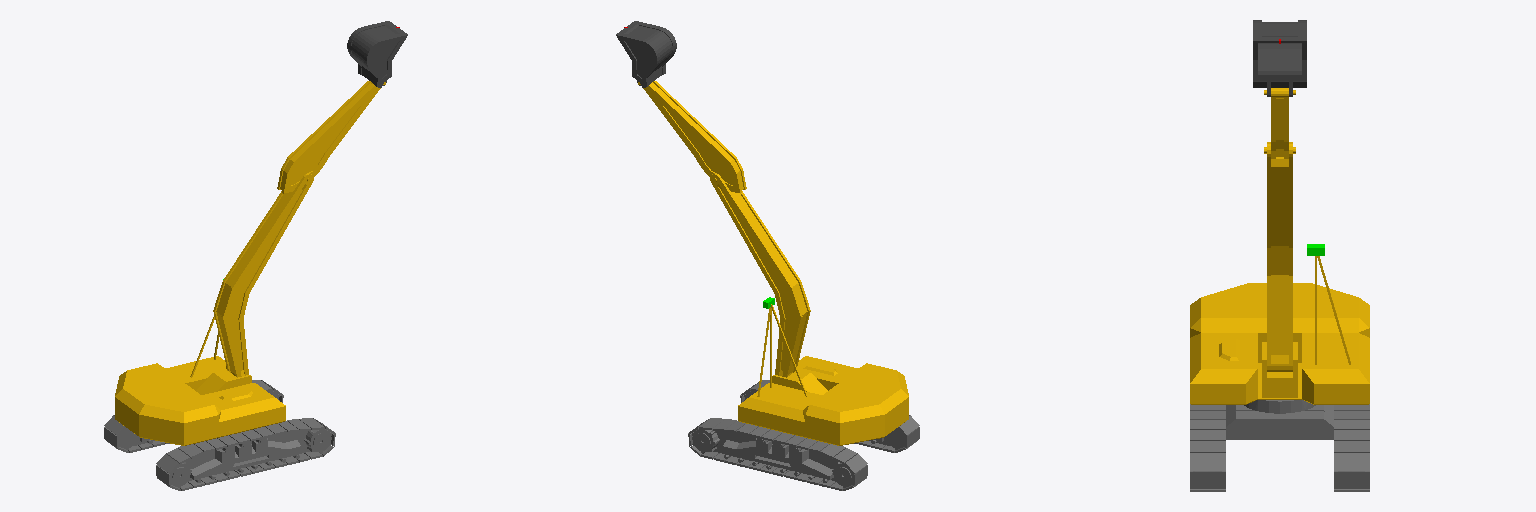
URDF robot description (Exca-1):
<?xml version="1.0" encoding="utf-8"?>
<robot name="Exca-1">
  <link name="base_link">
    <inertial>
      <origin xyz="-0.00093629 -7.0372E-16 0.067491" rpy="0 0 0" />
      <mass value="37.697" />
      <inertia ixx="0.8227" ixy="-6.4003E-17" ixz="0.001536" iyy="0.83904" iyz="-7.5689E-15" izz="1.5674" />
    </inertial>
    <visual>
      <origin xyz="0 0 0" rpy="0 0 0" />
      <geometry><mesh filename="package://Exca-1/meshes/base_link.STL" /></geometry>
      <material name=""><color rgba="0.5 0.5 0.5 1" /></material>
    </visual>
    <collision>
      <origin xyz="0 0 0" rpy="0 0 0" />
      <geometry><mesh filename="package://Exca-1/meshes/base_link_o.STL" /></geometry>
    </collision>
  </link>

  <link name="link_1">
    <inertial>
      <origin xyz="-0.16895 -1.1137E-15 0.081554" rpy="0 0 0" />
      <mass value="26.764" />
      <inertia ixx="0.30083" ixy="-3.5124E-17" ixz="0.024487" iyy="0.2943" iyz="1.729E-16" izz="0.53918" />
    </inertial>
    <visual>
      <origin xyz="0 0 0" rpy="0 0 0" />
      <geometry><mesh filename="package://Exca-1/meshes/link_1_cool.STL" /></geometry>
      <material name=""><color rgba="0.95 0.75 0.05 1" /></material>
    </visual>
    <collision>
      <origin xyz="0 0 0" rpy="0 0 0" />
      <geometry><mesh filename="package://Exca-1/meshes/link_1.STL" /></geometry>
    </collision>
  </link>

  <joint name="joint_1" type="continuous">
    <origin xyz="0 0 0.11304" rpy="0 0 0" />
    <parent link="base_link" />
    <child link="link_1" />
    <axis xyz="0 0 1" />
    <limit effort="1000" velocity="1" />
  </joint>

  <link name="link_2">
    <inertial>
      <origin xyz="0.30458 0.073788 1.4816E-14" rpy="0 0 0" />
      <mass value="6.2624" />
      <inertia ixx="0.011494" ixy="0.0067413" ixz="-1.8835E-15" iyy="0.19523" iyz="3.5397E-17" izz="0.20289" />
    </inertial>
    <visual>
      <origin xyz="0 0 0" rpy="0 0 0" />
      <geometry><mesh filename="package://Exca-1/meshes/link_2.STL" /></geometry>
      <material name=""><color rgba="0.95 0.75 0.05 1" /></material>
    </visual>
    <collision>
      <origin xyz="0 0 0" rpy="0 0 0" />
      <geometry><mesh filename="package://Exca-1/meshes/link_2_o.STL" /></geometry>
    </collision>
  </link>

  <joint name="joint_2" type="revolute">
    <origin xyz="0.07 0 0.115" rpy="1.5708 -1.2217 0" />
    <parent link="link_1" />
    <child link="link_2" />
    <axis xyz="0 0 1" />
    <limit lower="-1.919" upper="0" effort="1000" velocity="1" />
  </joint>

  <link name="link_3">
    <inertial>
      <origin xyz="0.1169 0.021719 1.0748E-14" rpy="0 0 0" />
      <mass value="3.0384" />
      <inertia ixx="0.0020654" ixy="0.0030753" ixz="-2.26E-16" iyy="0.040142" iyz="8.5149E-18" izz="0.041371" />
    </inertial>
    <visual>
      <origin xyz="0 0 0" rpy="0 0 0" />
      <geometry><mesh filename="package://Exca-1/meshes/link_3.STL" /></geometry>
      <material name=""><color rgba="0.95 0.75 0.05 1" /></material>
    </visual>
    <collision>
      <origin xyz="0 0 0" rpy="0 0 0" />
      <geometry><mesh filename="package://Exca-1/meshes/link_3_o.STL" /></geometry>
    </collision>
  </link>

  <joint name="joint_3" type="revolute">
    <origin xyz="0.672 0 0" rpy="0 0 -0.43633" />
    <parent link="link_2" />
    <child link="link_3" />
    <axis xyz="0 0 1" />
    <limit lower="-2.268" upper="0" effort="1000" velocity="1" />
  </joint>

  <link name="link_4">
    <inertial>
      <origin xyz="-0.019219 0.091842 9.4282E-15" rpy="0 0 0" />
      <mass value="1.1448" />
      <inertia ixx="0.0032492" ixy="-0.00034637" ixz="-2.0773E-19" iyy="0.0016958" iyz="1.0893E-19" izz="0.0039132" />
    </inertial>
    <visual>
      <origin xyz="0 0 0" rpy="0 0 0" />
      <geometry><mesh filename="package://Exca-1/meshes/link_4_12cm.STL" /></geometry>
      <material name=""><color rgba="0.35 0.35 0.35 1" /></material>
    </visual>
    <collision>
      <origin xyz="0 0 0" rpy="0 0 0" />
      <geometry><mesh filename="package://Exca-1/meshes/link_4_12cm.STL" /></geometry>
    </collision>
  </link>

  <joint name="joint_4" type="revolute">
    <origin xyz="0.37548 0 0" rpy="0 0 -0.7854" />
    <parent link="link_3" />
    <child link="link_4" />
    <axis xyz="0 0 1" />
    <limit lower="-3.141" upper="0" effort="1000" velocity="1" />
  </joint>

  <link name="dummy_link">
    <inertial>
      <origin xyz="-0.0025454 -2.2832E-14 -0.0041762" rpy="0 0 0" />
      <mass value="0.0006235" />
      <inertia ixx="9.2896E-09" ixy="3.8701E-23" ixz="-2.035E-09" iyy="1.1529E-08" iyz="2.9634E-23" izz="4.837E-09" />
    </inertial>
    <visual>
      <origin xyz="0 0 0" rpy="0 0 0" />
      <geometry><mesh filename="package://Exca-1/meshes/dummy_link.STL" /></geometry>
      <material name=""><color rgba="1 0 0 1" /></material>
    </visual>
    <collision>
      <origin xyz="0 0 0" rpy="0 0 0" />
      <geometry><mesh filename="package://Exca-1/meshes/dummy_link.STL" /></geometry>
    </collision>
  </link>

  <joint name="joint_tcp" type="fixed">
    <origin xyz="0.07 0.16 0" rpy="-1.5708 0 0" />
    <parent link="link_4" />
    <child link="dummy_link" />
    <axis xyz="0 0 0" />
  </joint>

  <gazebo>
    <plugin name="gazebo_ros_control" filename="libgazebo_ros_control.so">
      <robotNamespace>/</robotNamespace>
    </plugin>
  </gazebo>

  <transmission name="trans_joint_1">
    <type>transmission_interface/SimpleTransmission</type>
    <joint name="joint_1"><hardwareInterface>hardware_interface/PositionJointInterface</hardwareInterface></joint>
    <actuator name="motor_joint_1"><hardwareInterface>hardware_interface/PositionJointInterface</hardwareInterface><mechanicalReduction>1</mechanicalReduction></actuator>
  </transmission>

  <transmission name="trans_joint_2">
    <type>transmission_interface/SimpleTransmission</type>
    <joint name="joint_2"><hardwareInterface>hardware_interface/PositionJointInterface</hardwareInterface></joint>
    <actuator name="motor_joint_2"><hardwareInterface>hardware_interface/PositionJointInterface</hardwareInterface><mechanicalReduction>1</mechanicalReduction></actuator>
  </transmission>

  <transmission name="trans_joint_3">
    <type>transmission_interface/SimpleTransmission</type>
    <joint name="joint_3"><hardwareInterface>hardware_interface/PositionJointInterface</hardwareInterface></joint>
    <actuator name="motor_joint_3"><hardwareInterface>hardware_interface/PositionJointInterface</hardwareInterface><mechanicalReduction>1</mechanicalReduction></actuator>
  </transmission>

  <transmission name="trans_joint_4">
    <type>transmission_interface/SimpleTransmission</type>
    <joint name="joint_4"><hardwareInterface>hardware_interface/PositionJointInterface</hardwareInterface></joint>
    <actuator name="motor_joint_4"><hardwareInterface>hardware_interface/PositionJointInterface</hardwareInterface><mechanicalReduction>1</mechanicalReduction></actuator>
  </transmission>

  <link name="kamera_on_link">
    <visual>
      <origin xyz="0 0 0" rpy="0 0 0" />
      <geometry><box size="0.02 0.04 0.02" /></geometry>
      <material name=""><color rgba="0.0 1 0.0 1" /></material>
    </visual>
  </link>
  <joint name="kamera_on_joint" type="fixed">
    <origin xyz="0.08 0.08 0.4" rpy="0 0 0" /> <parent link="link_1" />
    <child link="kamera_on_link" />
  </joint>
  <link name="kamera_on_optical" />
  <joint name="kamera_on_optical_joint" type="fixed">
    <origin xyz="0 0 0" rpy="-1.5708 0 -1.5708" />
    <parent link="kamera_on_link" />
    <child link="kamera_on_optical" />
  </joint>

  <gazebo reference="kamera_on_link">
    <sensor type="depth" name="kamera_on_sensor">
      <always_on>true</always_on>
      <update_rate>10.0</update_rate> <camera>
        <horizontal_fov>1.57</horizontal_fov>
        <image><format>R8G8B8</format><width>640</width><height>480</height></image>
        <clip><near>0.05</near><far>2.5</far></clip> </camera>
      <plugin name="kamera_on_controller" filename="libgazebo_ros_openni_kinect.so">
        <cameraName>kamera_on</cameraName>
        <alwaysOn>true</alwaysOn><updateRate>10</updateRate>
        <imageTopicName>rgb/image_raw</imageTopicName>
        <depthImageTopicName>depth/image_raw</depthImageTopicName>
        <pointCloudTopicName>depth/points</pointCloudTopicName>
        <cameraInfoTopicName>rgb/camera_info</cameraInfoTopicName>
        <depthImageCameraInfoTopicName>depth/camera_info</depthImageCameraInfoTopicName>
        <frameName>kamera_on_optical</frameName>
        <baseline>0.1</baseline>
        <pointCloudCutoff>0.4</pointCloudCutoff>
        <pointCloudCutoffMax>2.5</pointCloudCutoffMax>
      </plugin>
    </sensor>
  </gazebo>
  
  <link name="kamera_cukur_link">
  </link>

  <joint name="kamera_cukur_joint" type="fixed">
    <origin xyz="0.30 0.0 0.45" rpy="0 0.785 0" />
    <parent link="link_1" />
    <child link="kamera_cukur_link" />
  </joint>

  <link name="kamera_cukur_optical" />
  <joint name="kamera_cukur_optical_joint" type="fixed">
    <origin xyz="0 0 0" rpy="-1.5708 0 -1.5708" />
    <parent link="kamera_cukur_link" />
    <child link="kamera_cukur_optical" />
  </joint>

  <gazebo reference="kamera_cukur_link">
    <sensor type="depth" name="kamera_cukur_sensor">
      <always_on>true</always_on>
      <update_rate>10.0</update_rate>
      <camera>
        <horizontal_fov>1.57</horizontal_fov>
        <image><format>R8G8B8</format><width>640</width><height>480</height></image>
        <clip><near>0.05</near><far>3.0</far></clip>
      </camera>
      <plugin name="kamera_cukur_controller" filename="libgazebo_ros_openni_kinect.so">
        <cameraName>kamera_cukur</cameraName>
        <alwaysOn>true</alwaysOn><updateRate>10</updateRate>
        <imageTopicName>rgb/image_raw</imageTopicName>
        <depthImageTopicName>depth/image_raw</depthImageTopicName>
        <pointCloudTopicName>depth/points</pointCloudTopicName>
        <cameraInfoTopicName>rgb/camera_info</cameraInfoTopicName>
        <depthImageCameraInfoTopicName>depth/camera_info</depthImageCameraInfoTopicName>
        <frameName>kamera_cukur_optical</frameName>
        <baseline>0.1</baseline>
        <pointCloudCutoff>0.1</pointCloudCutoff>
        <pointCloudCutoffMax>2.5</pointCloudCutoffMax>
      </plugin>
    </sensor>
    <material>Gazebo/Orange</material>
  </gazebo>
</robot>

--- Render facts (derived) ---
The picture shows the robot from 3 angles, left to right: view 1: azimuth 30°, elevation 25°; view 2: azimuth 150°, elevation 25°; view 3: azimuth 270°, elevation 25°; orthographic projection.
Robot: Exca-1 — 10 links, 9 joints (3 revolute, 1 continuous, 5 fixed); root link base_link; default pose: all joints at 0.
Visible links, largest first — view 1: link_1, base_link, link_2, link_3, link_4; view 2: link_1, base_link, link_2, link_3, link_4; view 3: link_1, base_link, link_2, link_4, link_3.
Boxes of the visible links, x1,y1,x2,y2 form: link_1: [115, 316, 285, 445]; base_link: [104, 380, 335, 490]; link_2: [213, 173, 313, 377]; link_3: [277, 81, 385, 193]; link_4: [347, 21, 407, 87]; link_1: [738, 304, 908, 445]; base_link: [688, 380, 919, 490]; link_2: [710, 173, 810, 377]; link_3: [638, 81, 746, 193]; link_4: [616, 21, 676, 87]; link_1: [1190, 256, 1369, 404]; base_link: [1190, 400, 1369, 491]; link_2: [1267, 142, 1292, 371]; link_4: [1253, 20, 1306, 96]; link_3: [1264, 88, 1295, 158].
Size in the robot's own frame: 0.9662 by 0.4 by 1.29 metres.
6 mesh visuals loaded from 6 distinct referenced files (6 binary STL).
